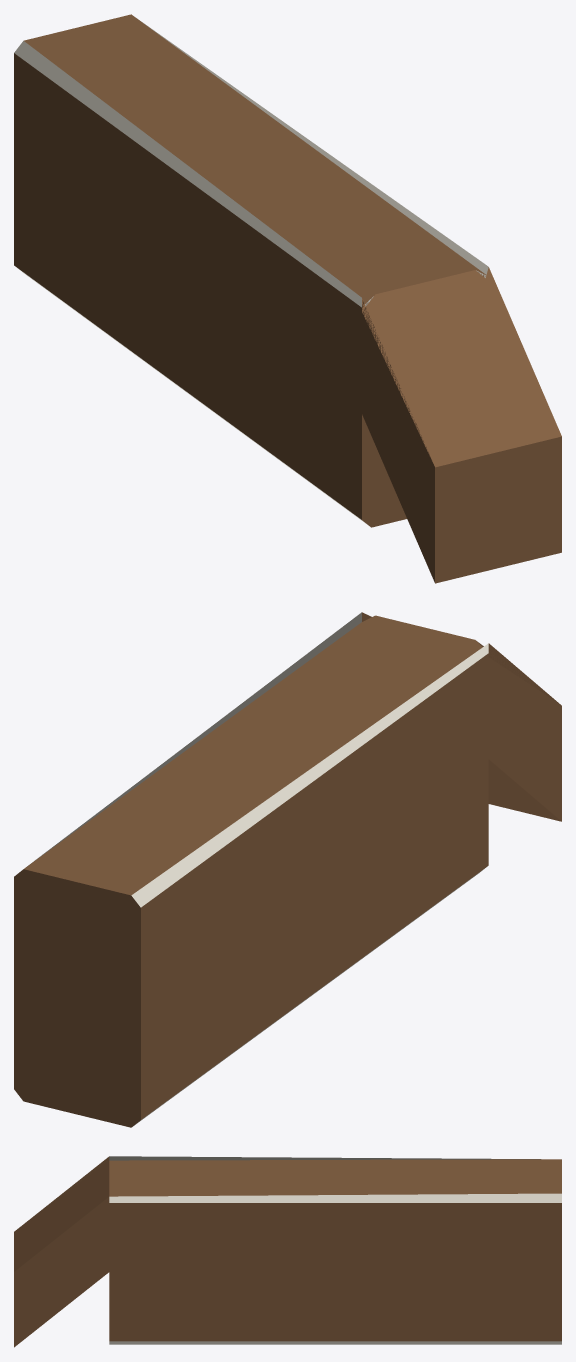
File: kit_rafter.obj
3 views of the same model, one above another, from view 1: azimuth 30°, elevation 25°; view 2: azimuth 150°, elevation 25°; view 3: azimuth 270°, elevation 25° (orthographic). The views are drawn at different scales.
Visible parts, largest first — view 1: kit_rafter; view 2: kit_rafter; view 3: kit_rafter.
Boxes of the visible parts, x1=… form: kit_rafter: x1=14, y1=14, x2=561, y2=583; kit_rafter: x1=14, y1=612, x2=561, y2=1127; kit_rafter: x1=14, y1=1156, x2=561, y2=1347.
Bounding box in the file's own units: 0.08 × 0.14 × 0.46.
